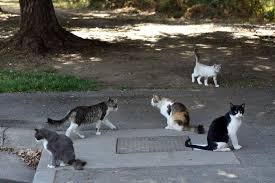cat: (184, 101, 247, 151), (45, 96, 120, 138), (33, 127, 88, 173), (149, 94, 206, 135), (189, 49, 223, 89)
